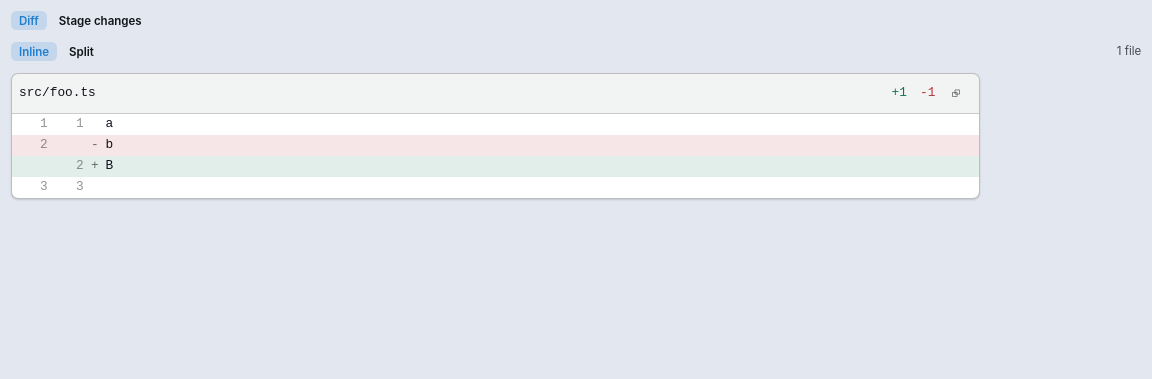
Test case: WorktreeDiffViewer: staging surface toggle (issue #232) › defaults to the Diff surface and switches to Stage changes on click
Expected: the element with test id "worktree-diff-files" is shown, [11,73,1141,199]
Click the radio button with test id "worktree-diff-surface-staging" at (100, 21), box [51,11,150,30]
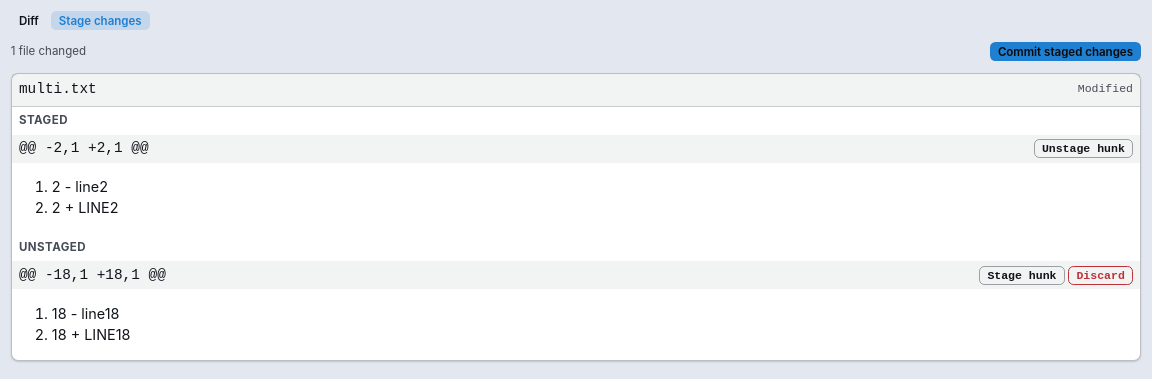
Expected: the element with test id "worktree-hunk-files" is shown
Expected: the text "src/foo.ts +1 -1 1 1 a 2 - b 2 + B 3 3" is gone
Click the radio button with test id "worktree-diff-surface-diff" at (29, 21), box [11,11,47,30]
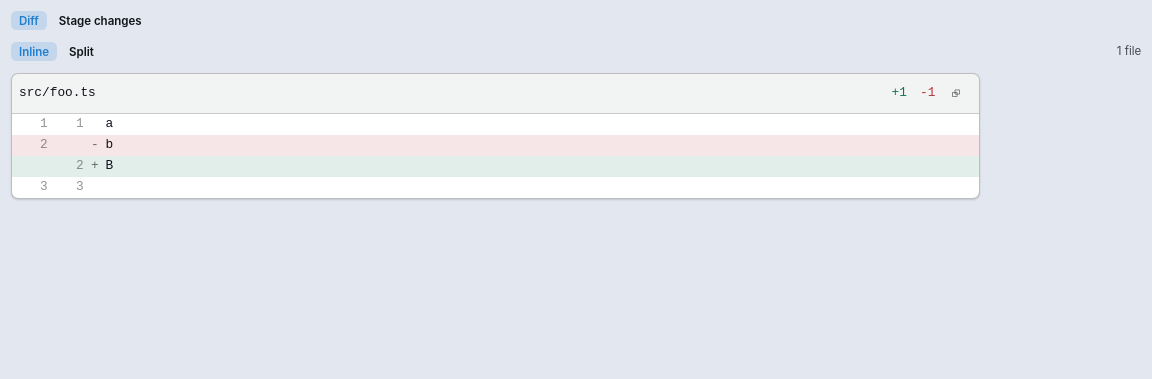
Expected: the element with test id "worktree-diff-files" is shown, [11,73,1141,199]
